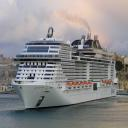cruises: (11, 27, 120, 113)
